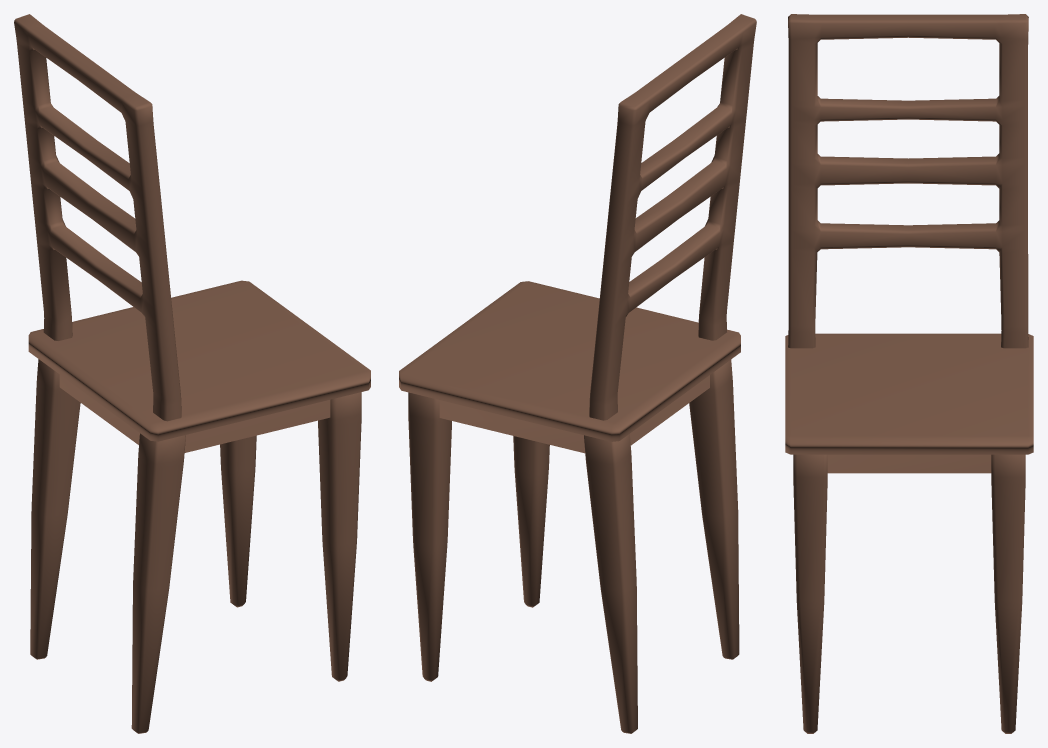
File: Chair_a.fbx
3 views of the same model, side by side, from view 1: azimuth 30°, elevation 25°; view 2: azimuth 150°, elevation 25°; view 3: azimuth 270°, elevation 25° (orthographic). The views are drawn at different scales.
Visible parts, largest first — view 1: Cube.002; view 2: Cube.002; view 3: Cube.002.
Boxes of the visible parts, x1,y1,x2,y2 form: Cube.002: [14, 14, 370, 733]; Cube.002: [399, 14, 756, 733]; Cube.002: [785, 14, 1033, 733].
Bounding box in the file's own units: 226 × 582 × 211.
